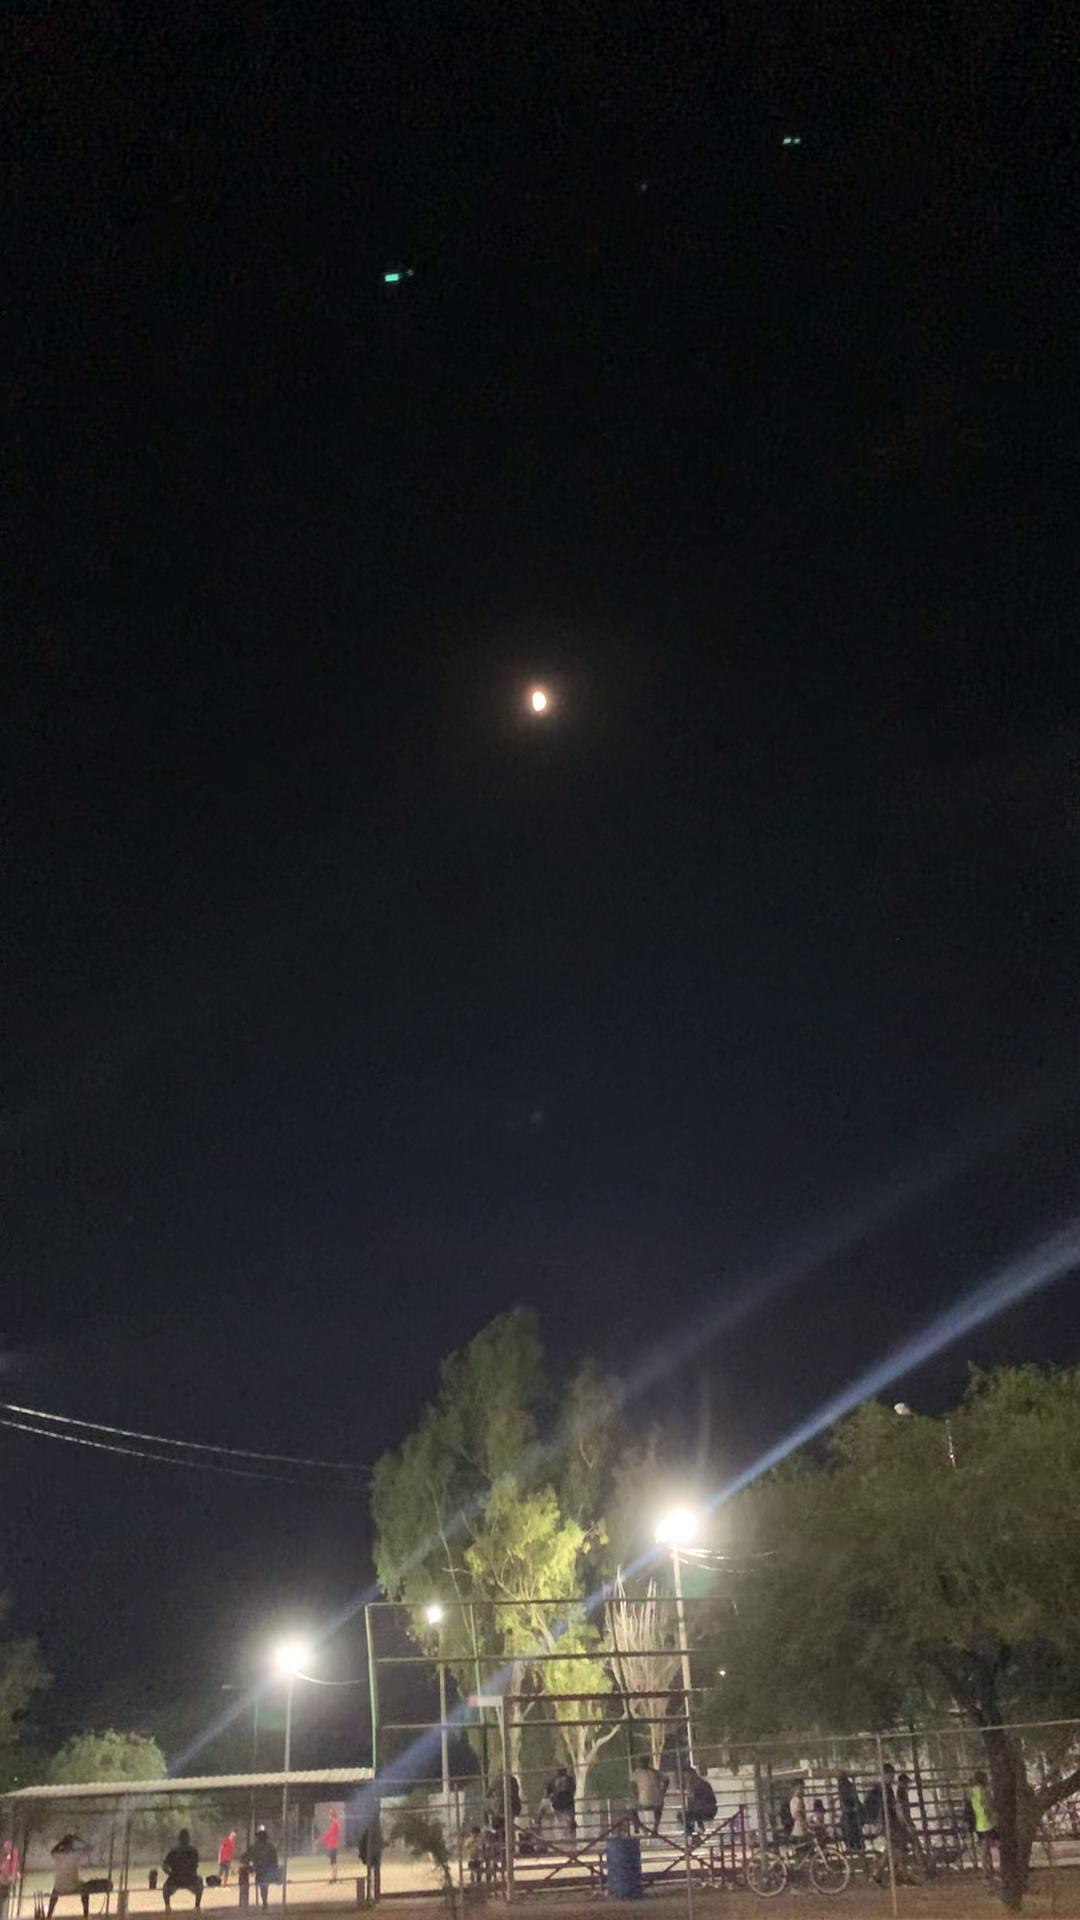moon: (513, 674, 575, 749)
